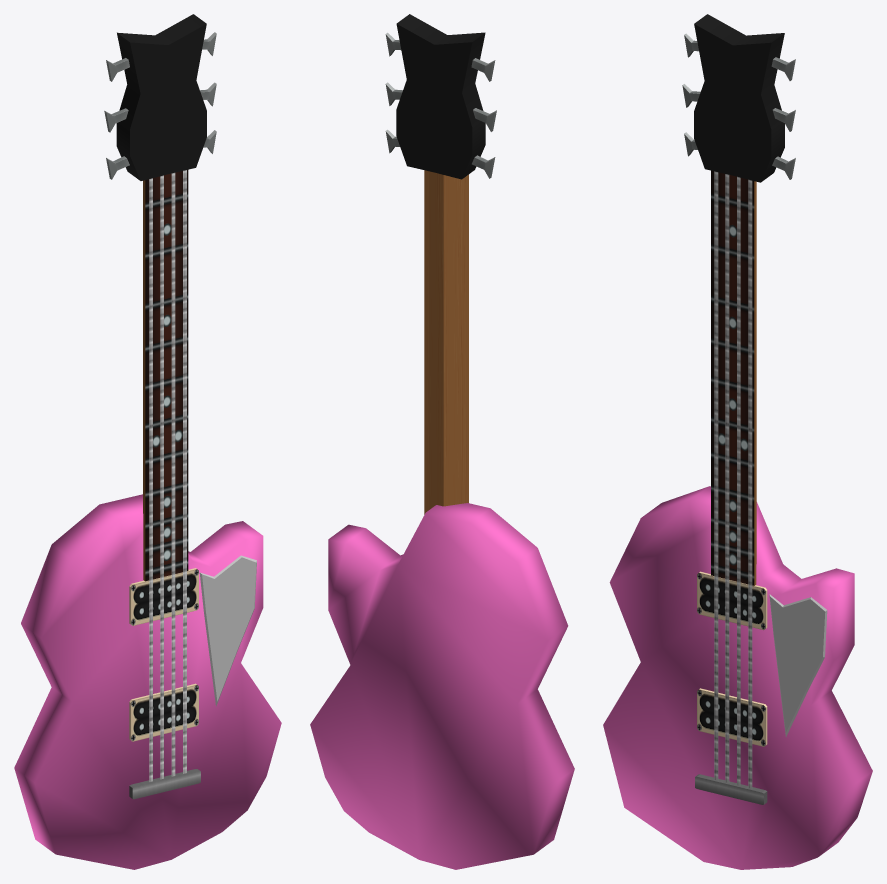
The model's file is Guitar_I.FBX.
3 views of the same model, side by side, from view 1: azimuth 30°, elevation 25°; view 2: azimuth 150°, elevation 25°; view 3: azimuth 330°, elevation 25° (orthographic).
Parts seen in each view (by area): view 1: Guitar; view 2: Guitar; view 3: Guitar.
Part boxes in pixels (x1,y1,x2,y2): Guitar: [14, 14, 281, 869]; Guitar: [310, 14, 574, 869]; Guitar: [603, 14, 872, 869].
Bounding box in the file's own units: 64.57 × 208 × 10.83.
